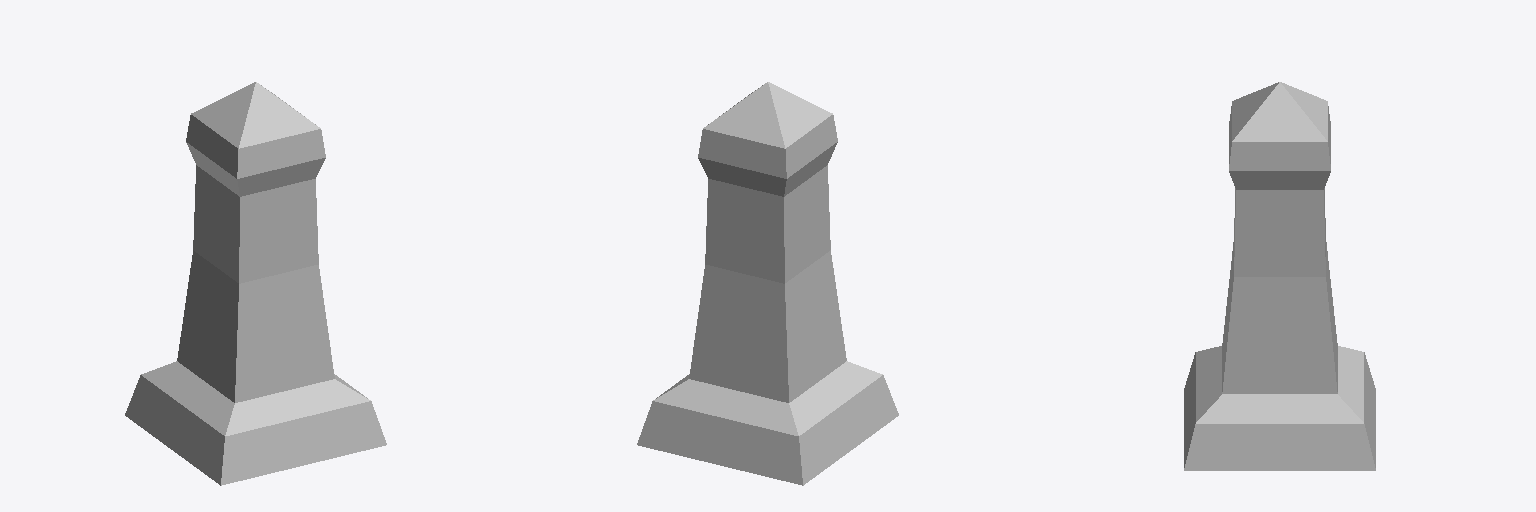
File: Pillar.obj
3 views of the same model, side by side, from view 1: azimuth 30°, elevation 25°; view 2: azimuth 150°, elevation 25°; view 3: azimuth 270°, elevation 25° (orthographic).
Parts seen in each view (by area): view 1: Pillar; view 2: Pillar; view 3: Pillar.
Part boxes in pixels (bbox=[...]): Pillar: bbox=[125, 82, 386, 485]; Pillar: bbox=[637, 82, 898, 485]; Pillar: bbox=[1184, 82, 1375, 470].
Bounding box in the file's own units: 9.85 × 19.71 × 9.85.